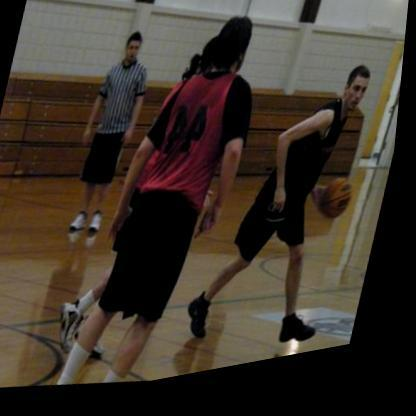basketball: (319, 185, 362, 239)
